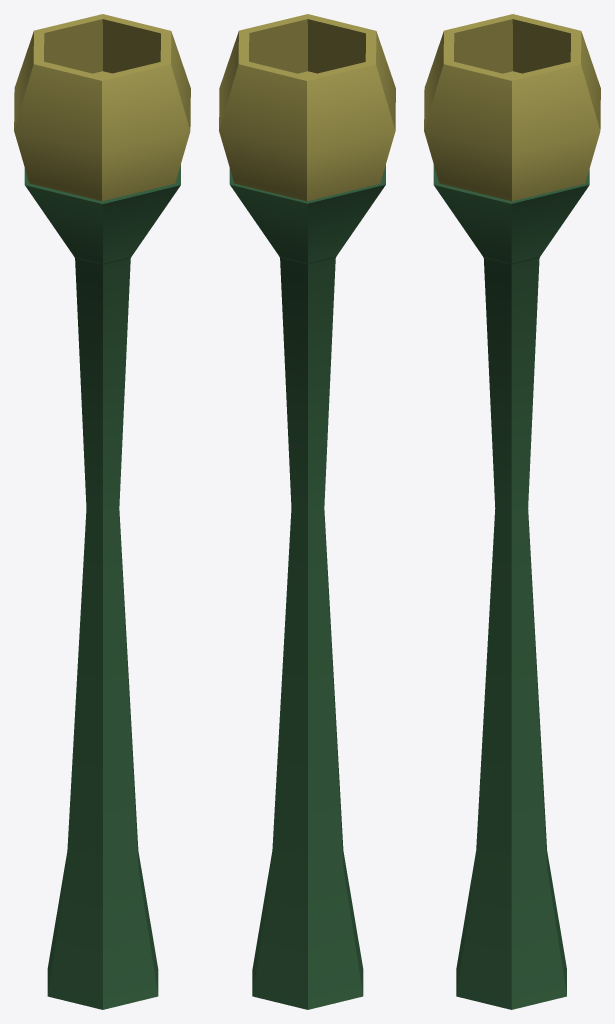
The model's file is flor.fbx.
3 views of the same model, side by side, from view 1: azimuth 30°, elevation 25°; view 2: azimuth 150°, elevation 25°; view 3: azimuth 270°, elevation 25° (orthographic).
Parts seen in each view (by area): view 1: flor; view 2: flor; view 3: flor.
Boxes of the visible parts, x1,y1,x2,y2 form: flor: (14, 14, 190, 1009); flor: (219, 14, 395, 1009); flor: (424, 14, 600, 1009).
Size of the model in its own units: 1.7 by 8.6 by 1.47.
